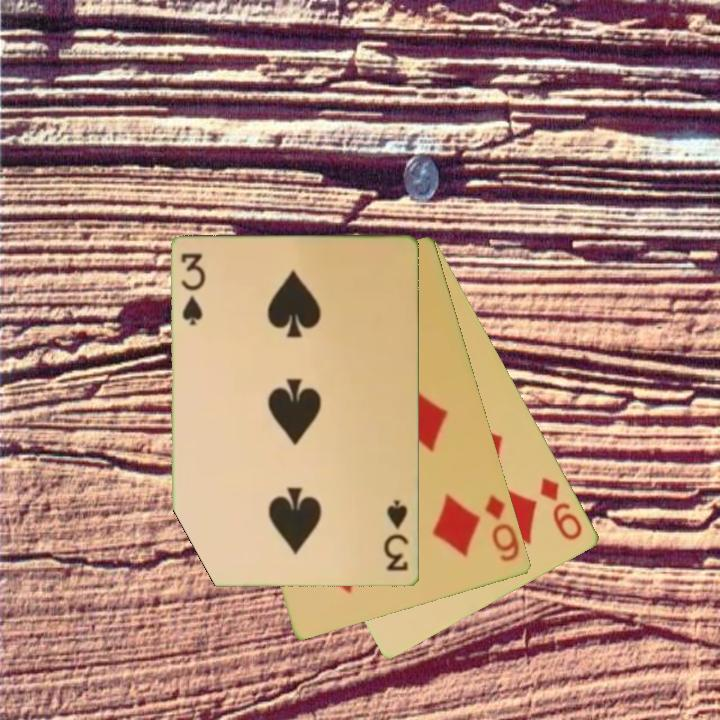3s: (178, 250, 209, 329), (381, 496, 412, 574)
6d: (481, 491, 523, 565)
9d: (537, 474, 586, 544)
